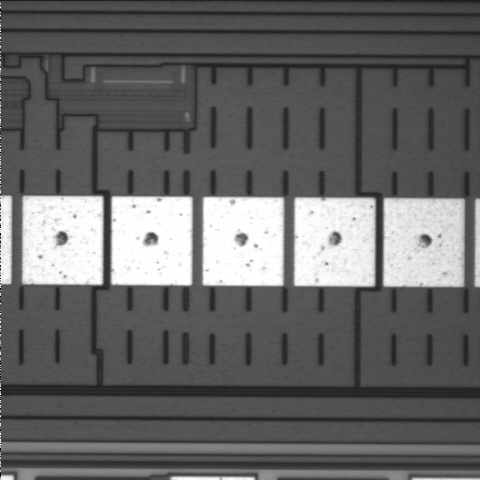pad: (111, 196, 193, 286), (22, 196, 103, 285), (203, 197, 284, 286), (383, 198, 464, 287), (294, 198, 375, 286)
